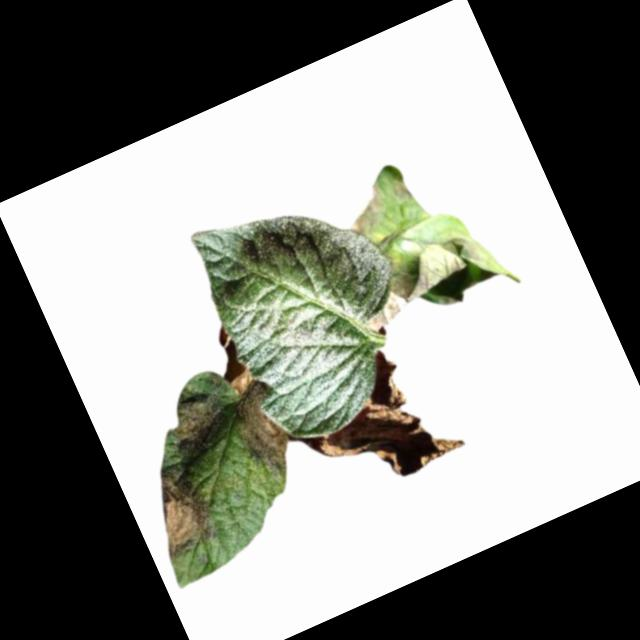Late_blight: (290, 335, 463, 507), (129, 460, 224, 564), (223, 376, 305, 480), (351, 257, 448, 334), (158, 382, 237, 458), (201, 323, 256, 399), (336, 181, 396, 241), (437, 229, 485, 276), (390, 176, 412, 203)
healthy: (185, 165, 443, 456)
